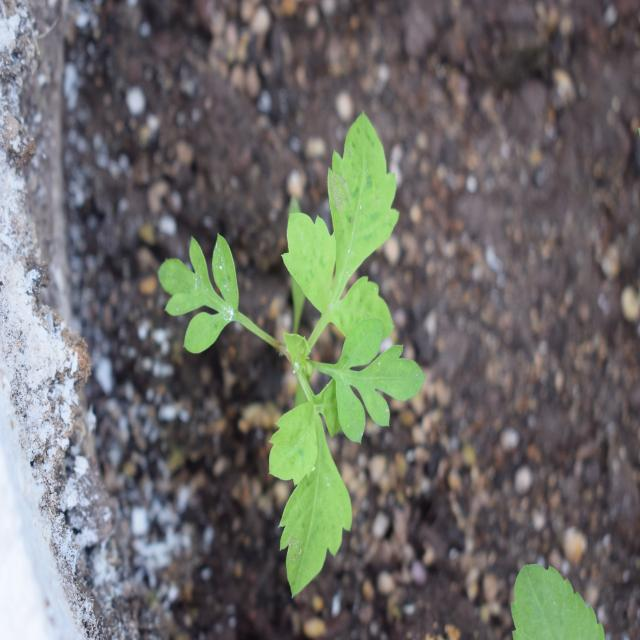Bidens pilosa: (166, 137, 434, 566)
